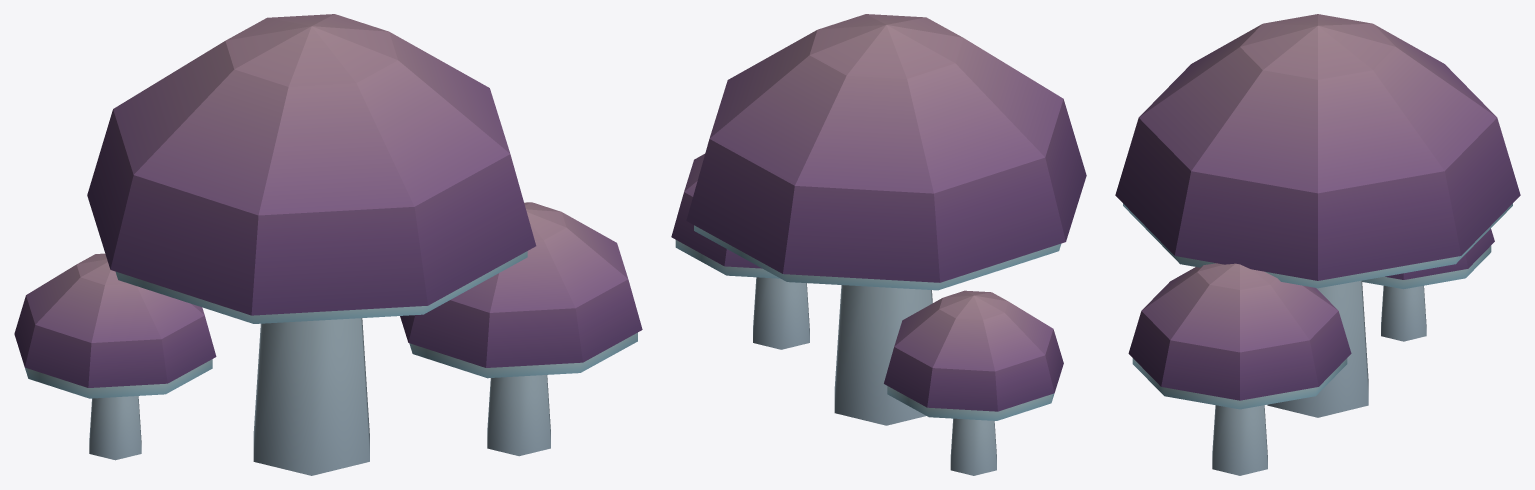
Rendered from item_mushroom_gloom.glb.
3 views of the same model, side by side, from view 1: azimuth 30°, elevation 25°; view 2: azimuth 150°, elevation 25°; view 3: azimuth 270°, elevation 25° (orthographic). The views are drawn at different scales.
Parts seen in each view (by area): view 1: item_mushroom_gloom; view 2: item_mushroom_gloom; view 3: item_mushroom_gloom.
Part boxes in pixels (x1,y1,x2,y2): item_mushroom_gloom: (14, 14, 642, 475); item_mushroom_gloom: (671, 14, 1086, 475); item_mushroom_gloom: (1115, 14, 1520, 475).
Bounding box in the file's own units: 1.32 × 1.04 × 1.04.
1 material, 1 textured.
